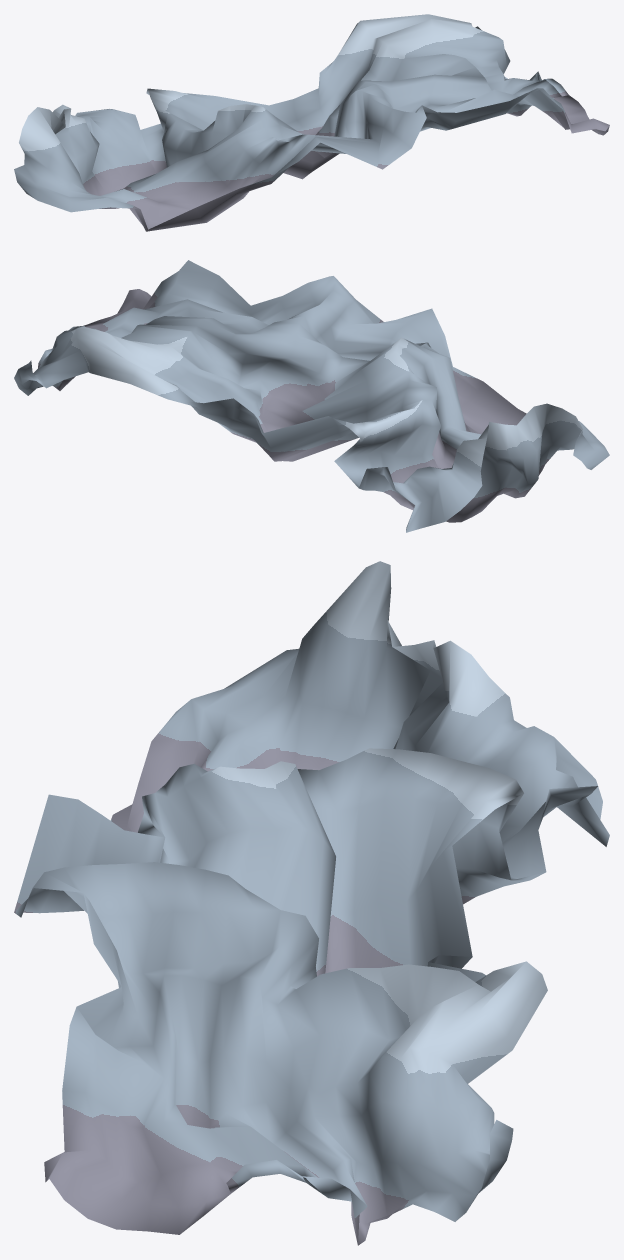
Rendered from papel.003.fbx.
3 renders of one model, top to bottom at view 1: azimuth 30°, elevation 25°; view 2: azimuth 150°, elevation 25°; view 3: azimuth 270°, elevation 25°, orthographic. The views are drawn at different scales.
Parts seen in each view (by area): view 1: papel.003; view 2: papel.003; view 3: papel.003.
Boxes of the visible parts, x1,y1,x2,y2 form: papel.003: [14, 14, 609, 231]; papel.003: [14, 260, 609, 532]; papel.003: [14, 561, 609, 1245].
Size of the model in its own units: 248 by 56.9 by 123.
